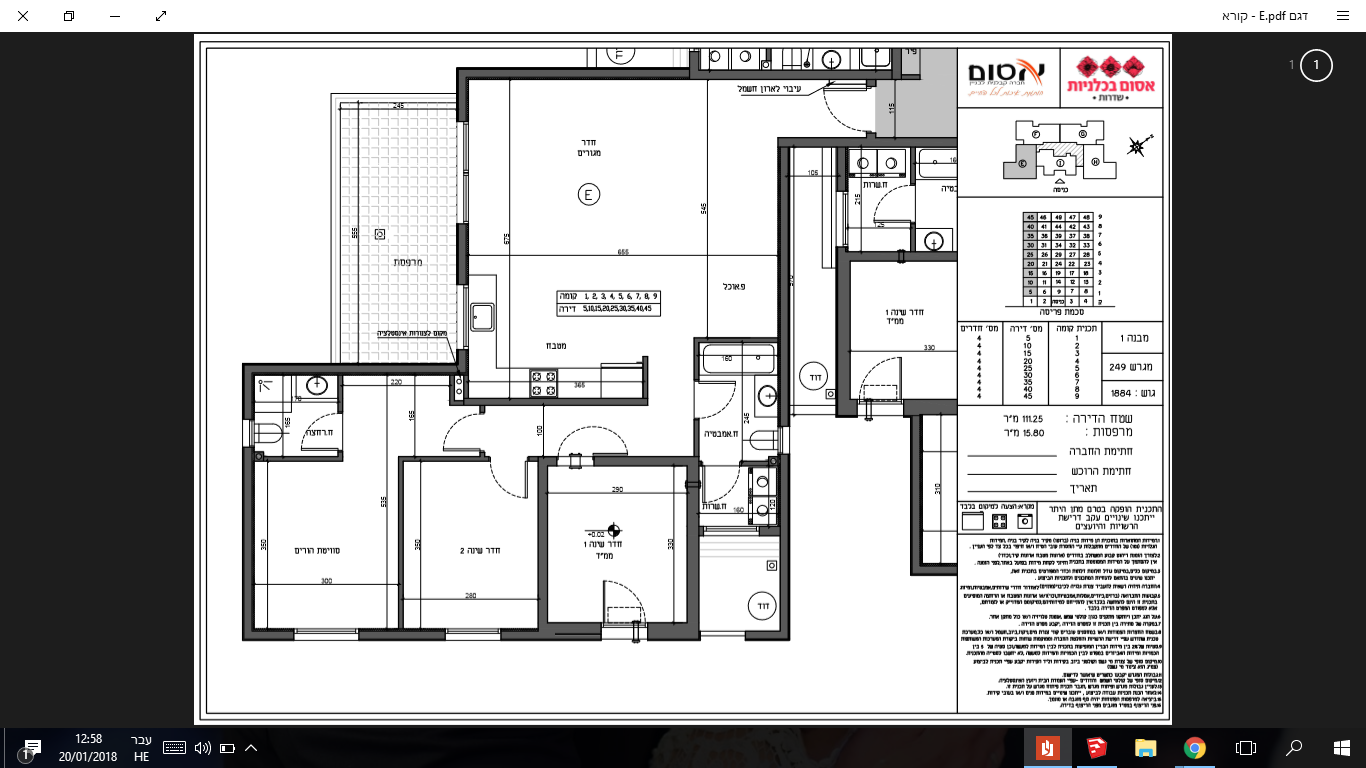door: (592, 577, 651, 616), (479, 467, 534, 507), (860, 355, 909, 394), (703, 378, 738, 425), (437, 412, 476, 453), (869, 185, 907, 225), (298, 412, 334, 454), (701, 470, 740, 505)
wall: (777, 141, 790, 406), (457, 67, 691, 78), (837, 249, 852, 415), (909, 398, 923, 575), (243, 363, 467, 374), (242, 449, 254, 641), (779, 455, 790, 640), (688, 69, 891, 79), (687, 490, 698, 639), (779, 138, 954, 147), (464, 398, 647, 405), (905, 400, 956, 413), (648, 624, 695, 638), (457, 69, 467, 119)
window: (462, 121, 473, 225), (293, 622, 359, 639), (444, 624, 501, 638), (702, 521, 759, 535), (840, 190, 849, 248), (462, 285, 469, 349)
